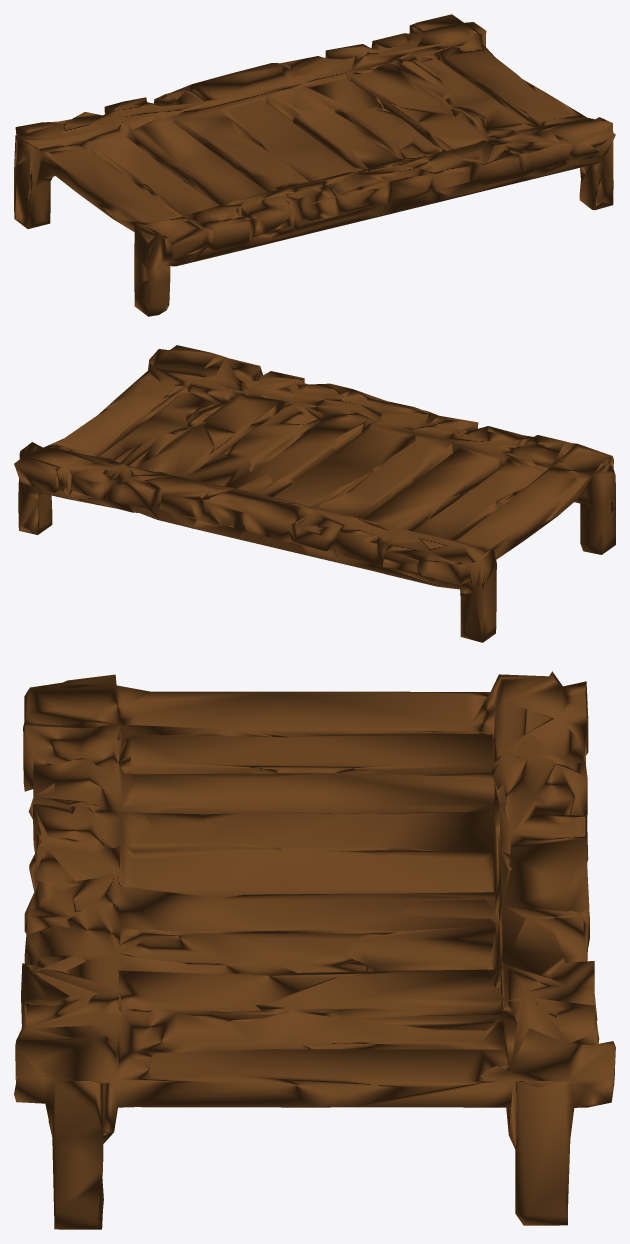
The model's file is gen3d-wooden-pier-lod0.glb.
3 views of the same model, one above another, from view 1: azimuth 30°, elevation 25°; view 2: azimuth 150°, elevation 25°; view 3: azimuth 270°, elevation 25° (orthographic). The views are drawn at different scales.
Parts seen in each view (by area): view 1: part_0; view 2: part_0; view 3: part_0.
Part boxes in pixels (x1=…): part_0: x1=14, y1=14, x2=615, y2=316; part_0: x1=14, y1=345, x2=615, y2=642; part_0: x1=14, y1=671, x2=615, y2=1229.
Size of the model in its own units: 5.73 by 0.9992 by 3.54.
